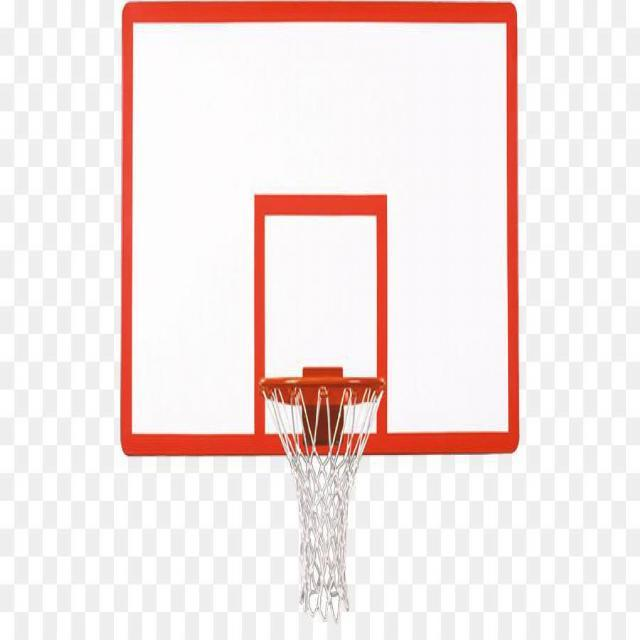hoop: (258, 378, 386, 624)
